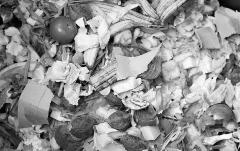organic: (92, 0, 180, 30), (200, 102, 240, 132), (50, 12, 80, 39), (66, 116, 96, 138), (106, 108, 130, 132)
